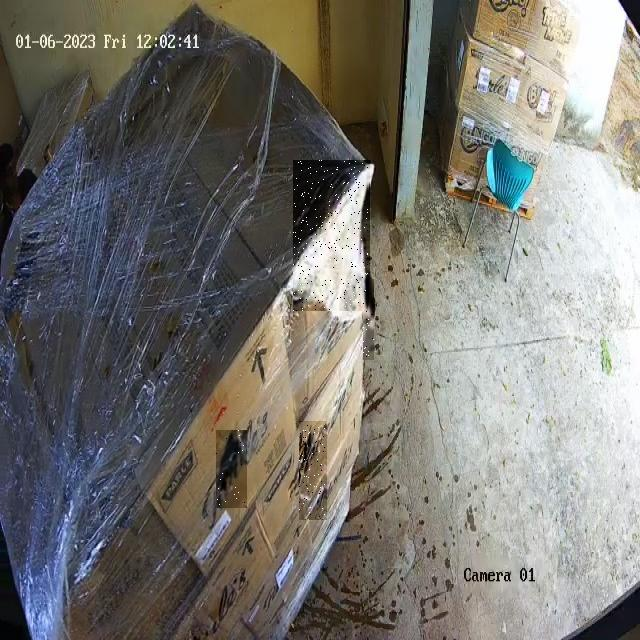leakage: (300, 425, 325, 519), (217, 431, 245, 507), (363, 279, 374, 359)
squeeze: (294, 161, 368, 311)
